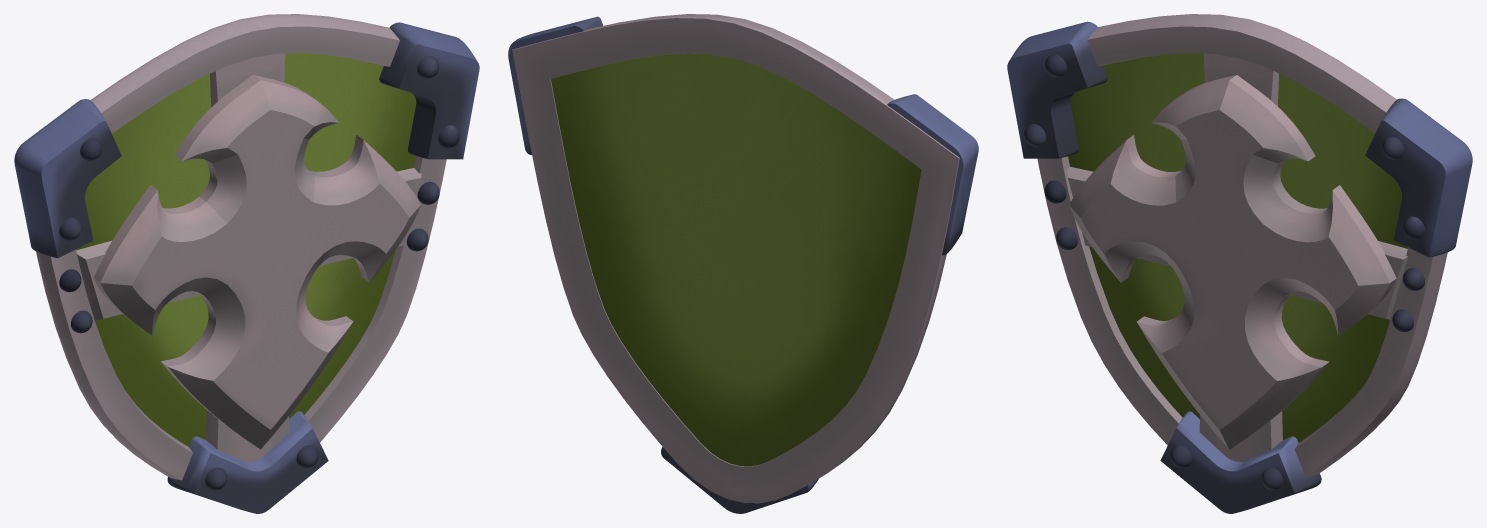
File: shield.fbx
The picture shows the model from 3 angles, left to right: view 1: azimuth 30°, elevation 25°; view 2: azimuth 150°, elevation 25°; view 3: azimuth 330°, elevation 25°; orthographic projection.
Parts seen in each view (by area): view 1: Line006, Line001, Line002, Line003, Line004, Line005; view 2: Line001, Line002, Line003, Line004; view 3: Line006, Line001, Line002, Line003, Line004, Line005.
Part boxes in pixels (box(x1,y1,x2,y2)): Line006: box(93, 74, 420, 449); Line001: box(76, 53, 416, 446); Line002: box(36, 14, 446, 480); Line003: box(14, 22, 479, 258); Line004: box(167, 411, 328, 513); Line005: box(76, 53, 421, 461); Line001: box(551, 53, 921, 466); Line002: box(512, 14, 959, 503); Line003: box(508, 16, 978, 255); Line004: box(661, 447, 818, 513); Line006: box(1069, 75, 1396, 449); Line001: box(1068, 53, 1407, 442); Line002: box(1037, 14, 1447, 476); Line003: box(1007, 21, 1472, 257); Line004: box(1160, 411, 1321, 513); Line005: box(1067, 53, 1408, 461).
Bounding box in the file's own units: 593 × 610 × 68.85.
